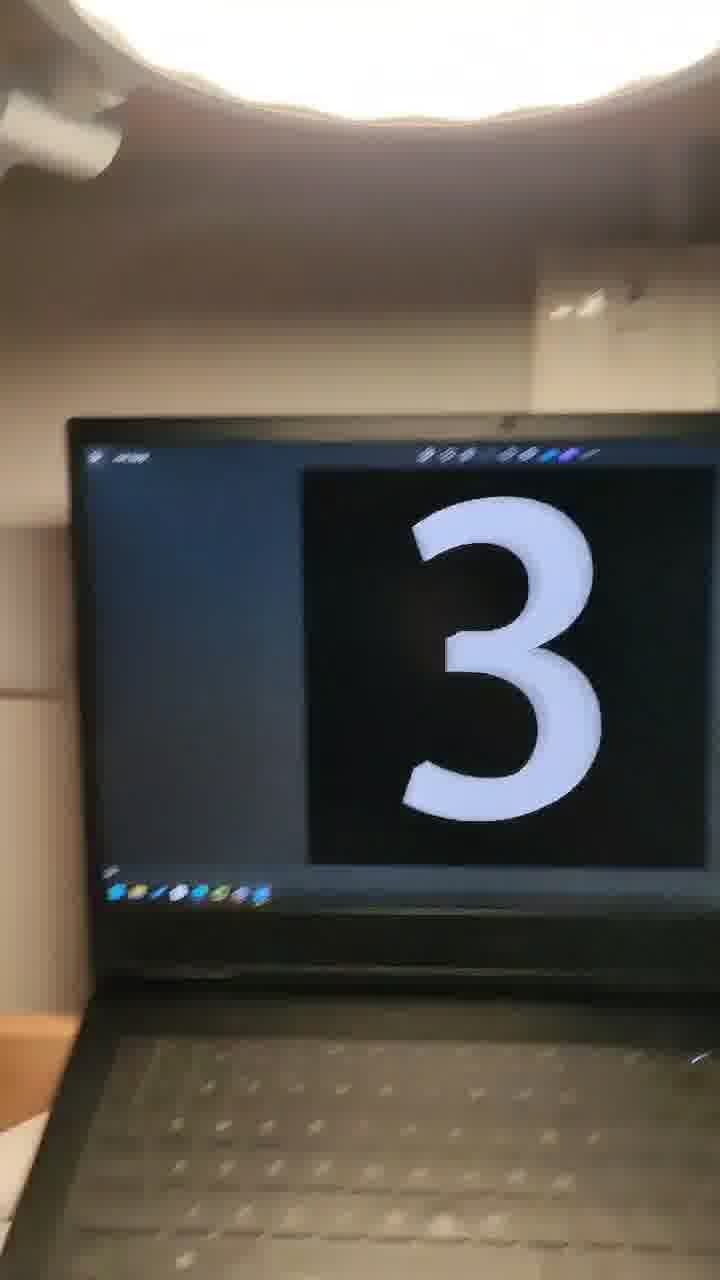three: (363, 434, 642, 859)
